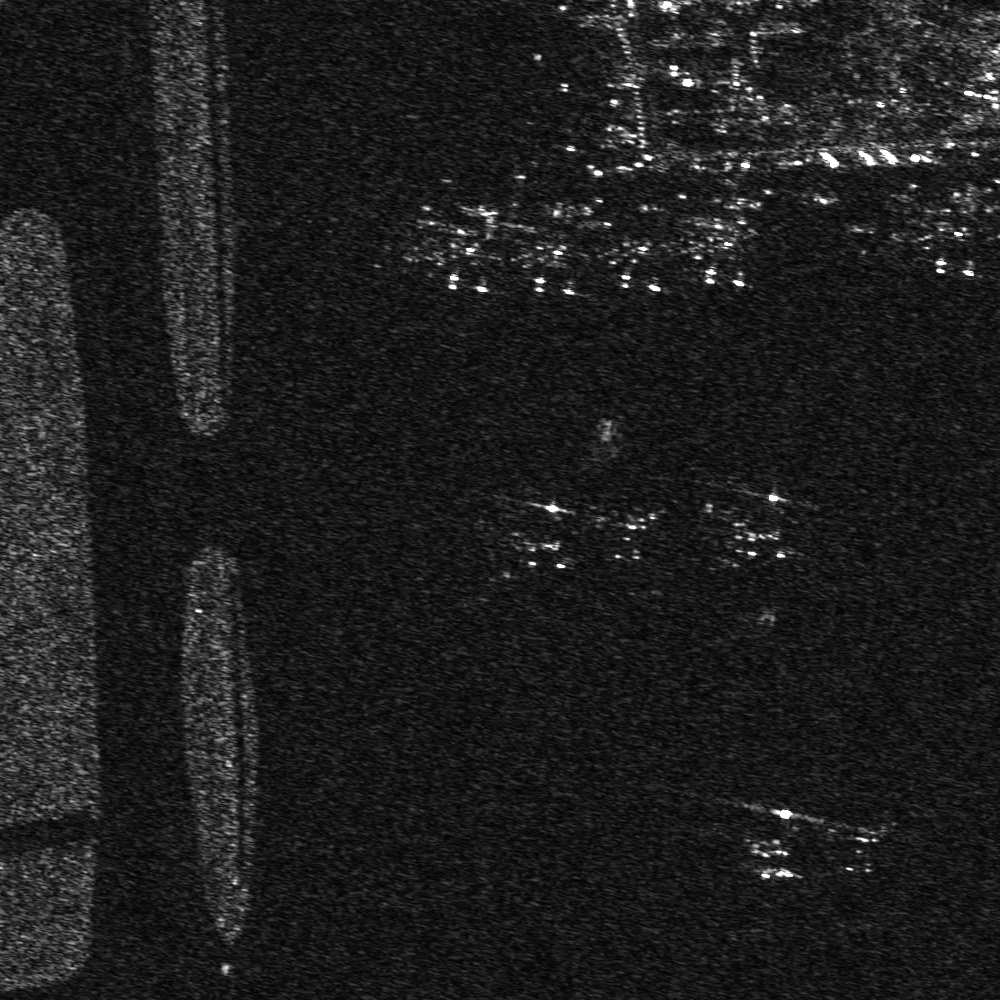A220: (828, 815, 893, 876)
A320/321: (432, 202, 504, 294)
ARJ21: (909, 192, 975, 279)
Boeing737: (507, 206, 591, 296), (597, 202, 676, 293)
other: (716, 795, 826, 888), (705, 479, 804, 564), (679, 196, 762, 291), (496, 492, 576, 575), (593, 495, 679, 568)
